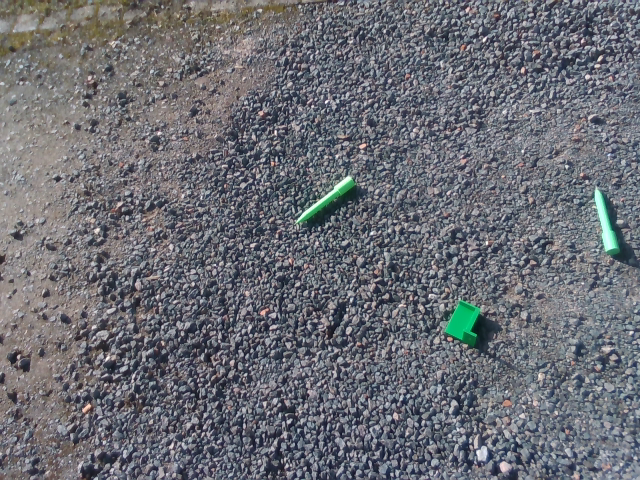Probe: (292, 173, 358, 228), (587, 178, 623, 258)
